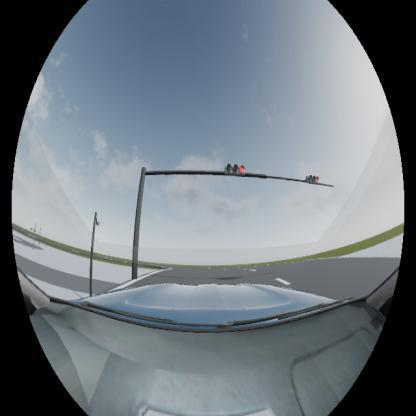Red Light: (225, 162, 244, 176), (306, 173, 320, 184)
